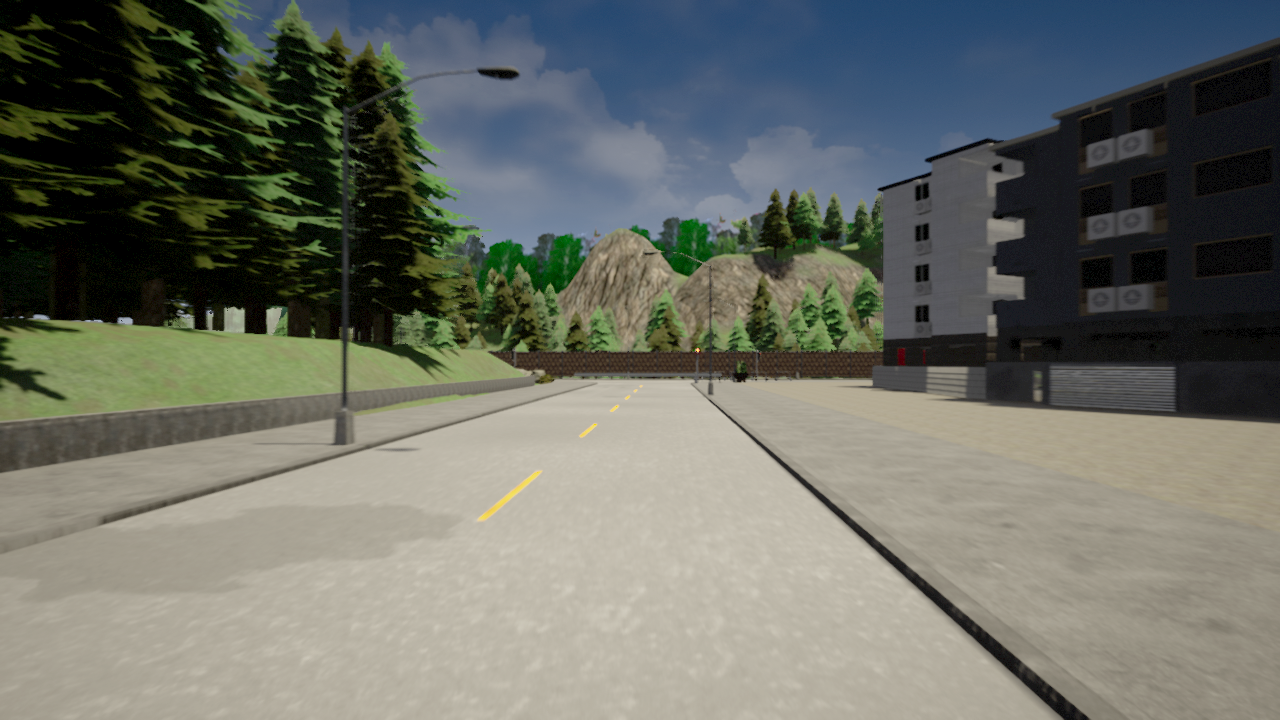red: (695, 347, 700, 359)
